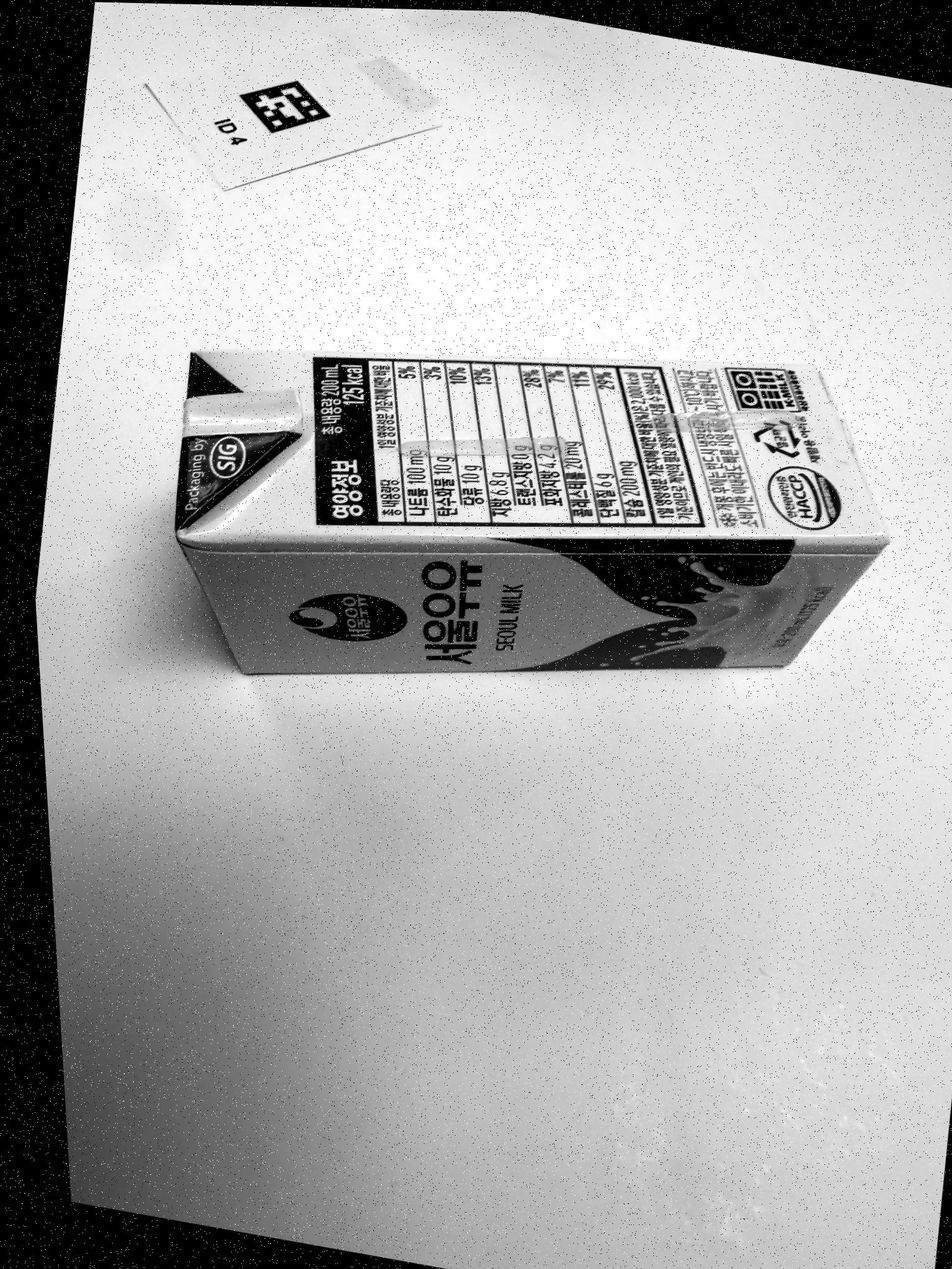milk_green: (174, 346, 890, 676)
